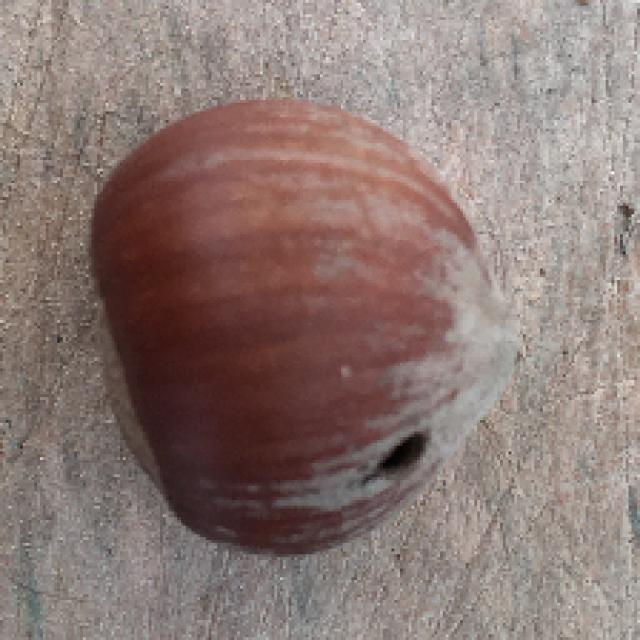DamagedHazelnut: (84, 102, 519, 559)
